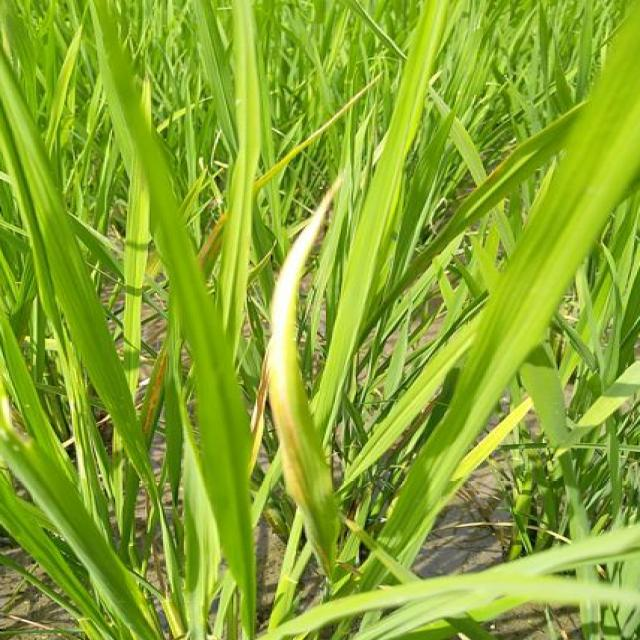Leaf Blight: (266, 181, 339, 578)
Leaf Streak: (141, 339, 167, 449), (197, 210, 229, 283), (253, 154, 295, 191)
